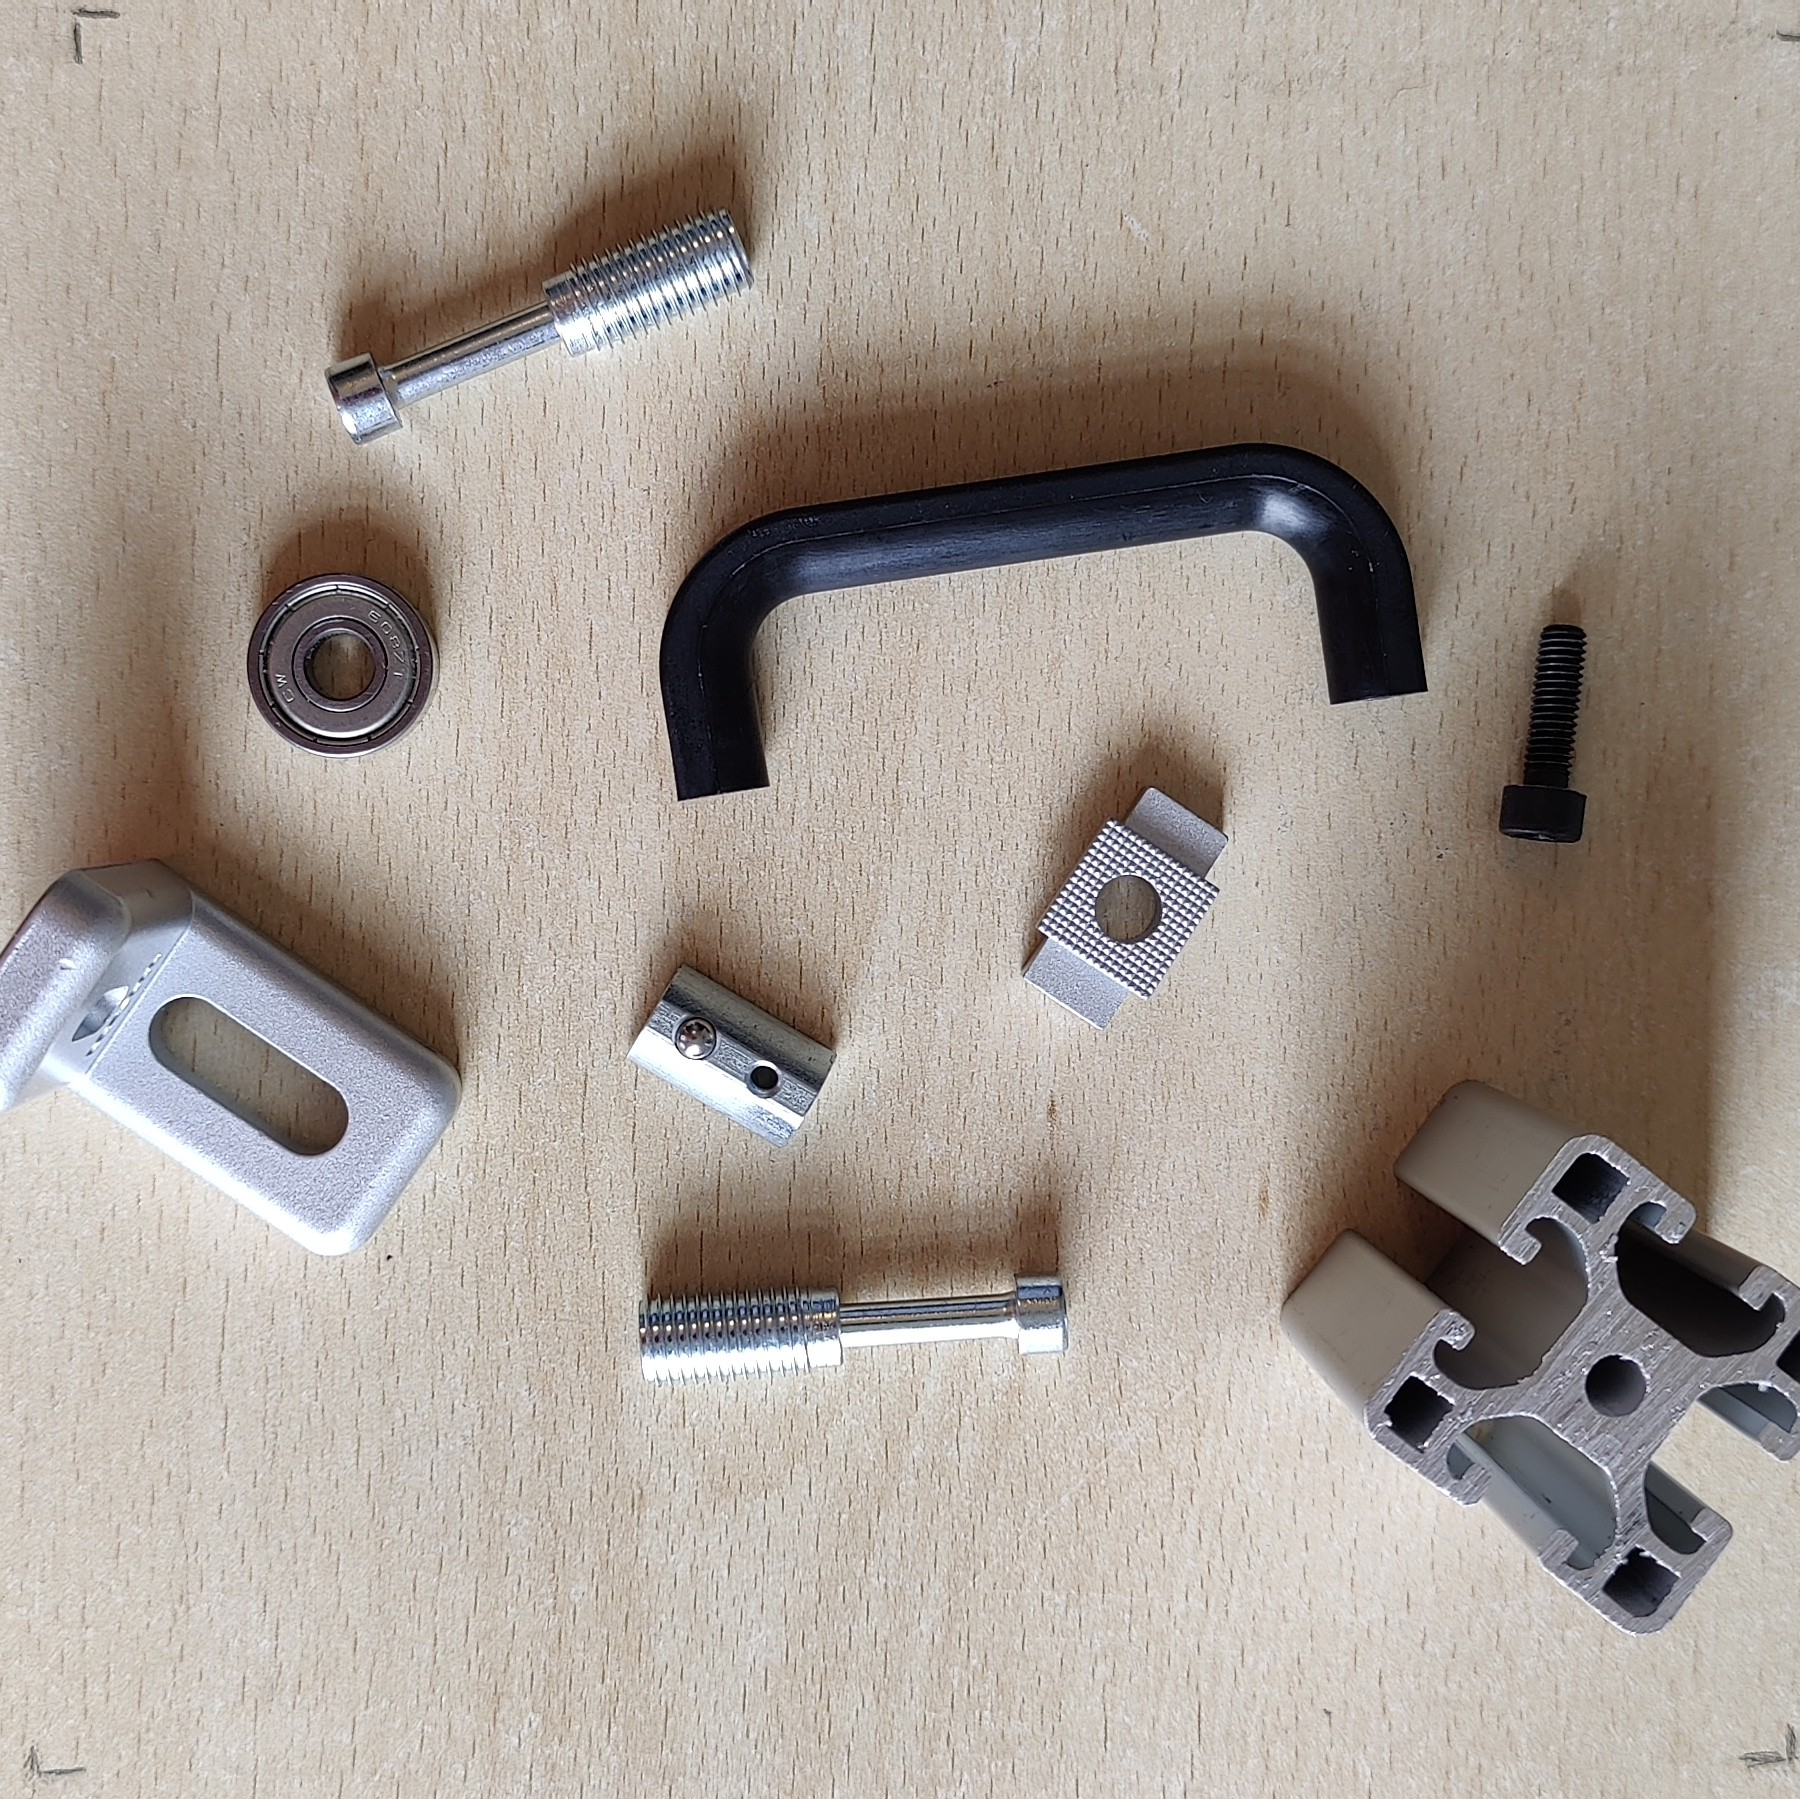Aluminium Extension: (1278, 1076, 1800, 1638)
Ball Bearing: (245, 567, 443, 761)
Multiwinkel: (2, 857, 464, 1260)
Pull Handle: (655, 438, 1433, 806)
Shoulder Socket Head Cap Screw: (321, 203, 756, 448), (636, 1264, 1074, 1390)
Socket Head Cap Screw: (1499, 618, 1592, 847)
T Nut Square: (1016, 783, 1233, 1036)
T Spring Nut: (624, 960, 838, 1152)
